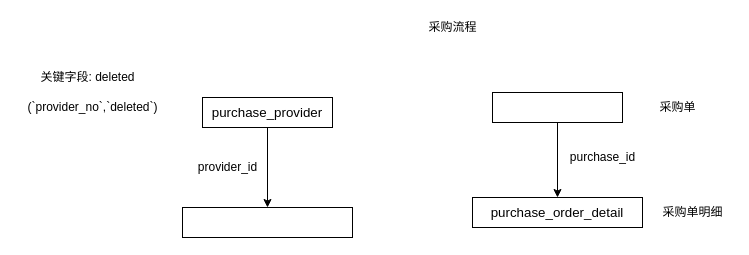
The diagram is 749 pixels wide and 255 high, and some of its shapes have lost their labels. Here are the shapes that lost their labels. From the top down, the centre of each, then its label:
At pixel 557 107: "purchase_order".
At pixel 267 222: "purchase_provider_goods".
